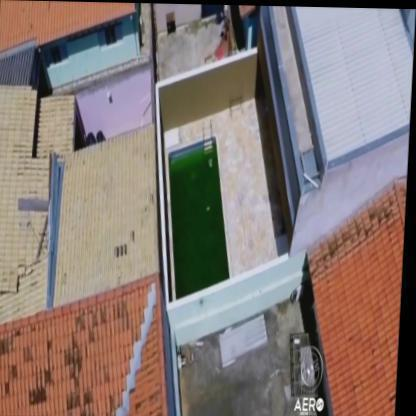agua: (183, 193, 226, 289)
